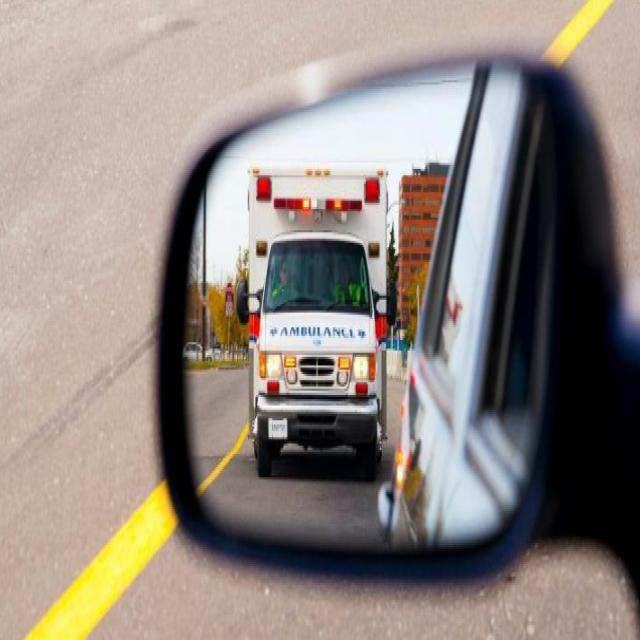emergency: (238, 168, 386, 479)
